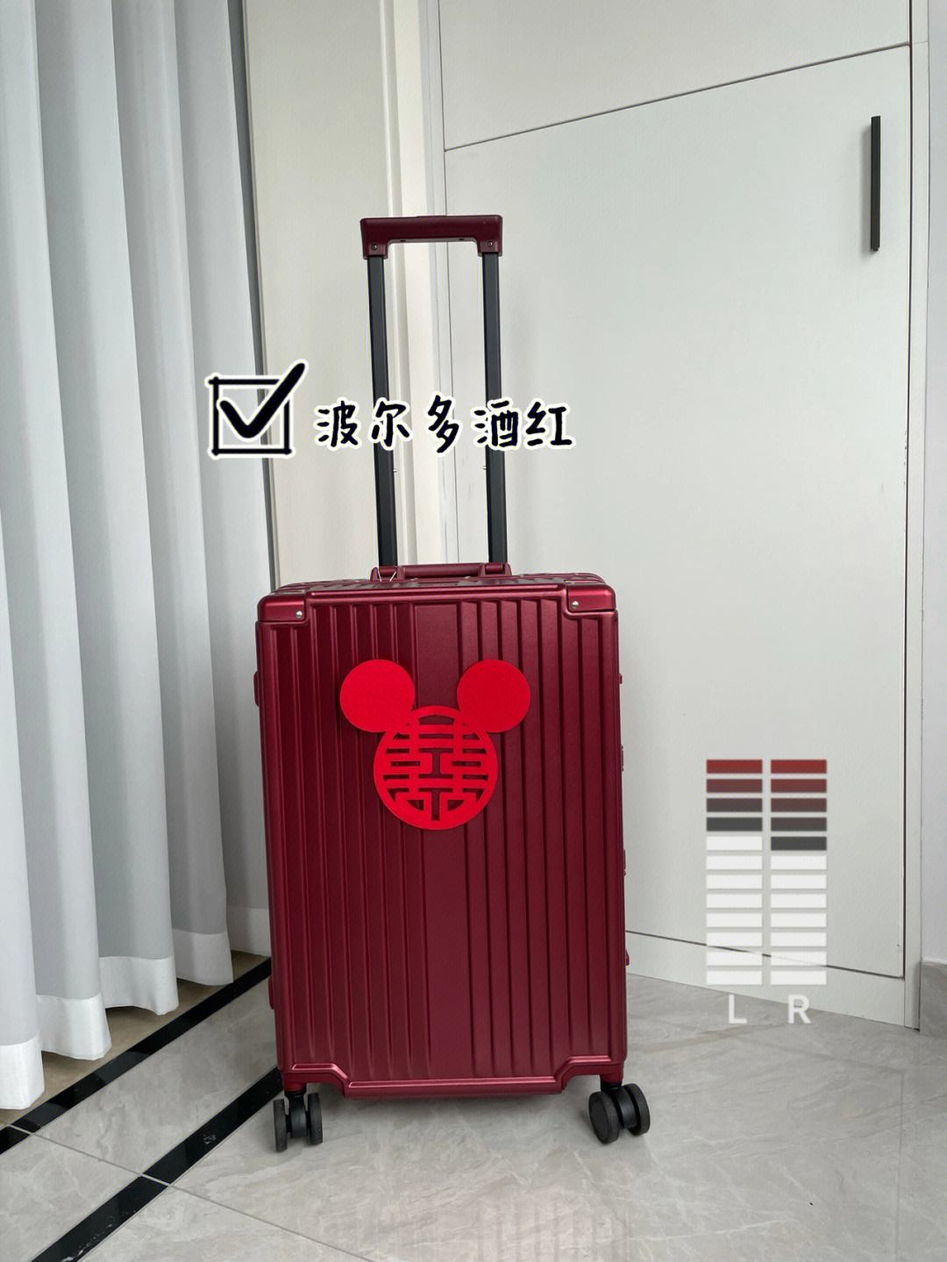box: (256, 573, 626, 1101)
handle: (368, 562, 512, 582)
wheel: (587, 1082, 651, 1145), (273, 1092, 324, 1151)
